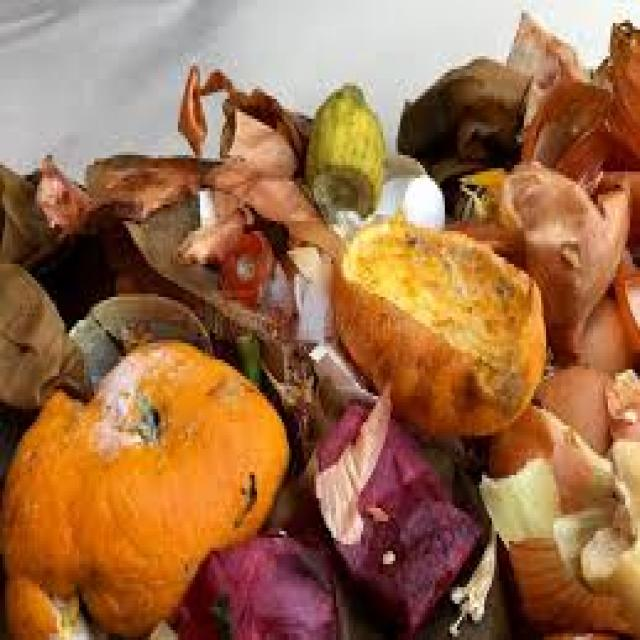organic waste: (76, 336, 286, 636), (32, 63, 341, 264), (264, 426, 504, 636), (331, 211, 544, 436), (282, 386, 472, 617), (477, 366, 637, 637), (82, 145, 284, 337), (497, 152, 632, 363), (0, 382, 96, 636), (396, 56, 526, 221), (165, 531, 356, 637), (66, 287, 212, 389), (0, 257, 91, 399), (301, 79, 383, 215), (521, 72, 613, 182), (551, 251, 638, 366), (502, 6, 583, 86), (0, 158, 52, 264), (450, 528, 499, 637), (603, 10, 637, 162), (378, 152, 442, 228), (304, 337, 371, 402), (452, 168, 507, 244), (215, 228, 274, 297), (289, 267, 329, 333), (286, 234, 328, 287), (326, 201, 366, 231)
